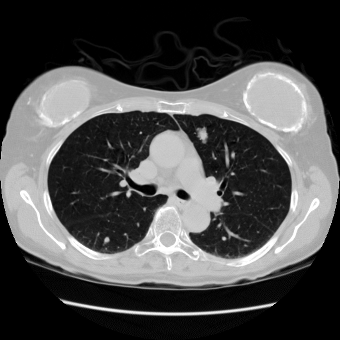nodule: (102, 236, 110, 244)
